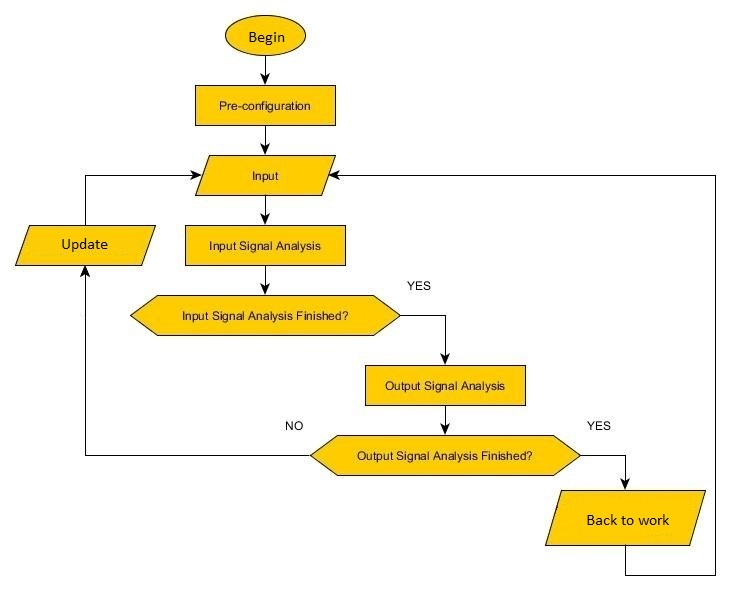arrow: (327, 168, 719, 579), (76, 262, 316, 458), (81, 169, 205, 224), (397, 311, 452, 365), (577, 453, 634, 492), (257, 191, 274, 223), (437, 402, 453, 436), (257, 123, 273, 156), (258, 48, 271, 86), (258, 262, 271, 295)
data: (541, 486, 708, 547), (12, 223, 161, 270), (192, 151, 337, 199)
process: (127, 291, 402, 340), (307, 435, 584, 478), (181, 223, 351, 270), (361, 361, 527, 409), (193, 82, 339, 129)
terminator: (223, 13, 311, 59)
text: (355, 448, 536, 465), (178, 308, 350, 322), (383, 377, 511, 395), (207, 237, 322, 254), (215, 99, 313, 116), (585, 512, 674, 529), (58, 234, 112, 254), (246, 29, 289, 45), (250, 168, 282, 184), (405, 275, 433, 293), (586, 419, 613, 433), (284, 417, 305, 432)
